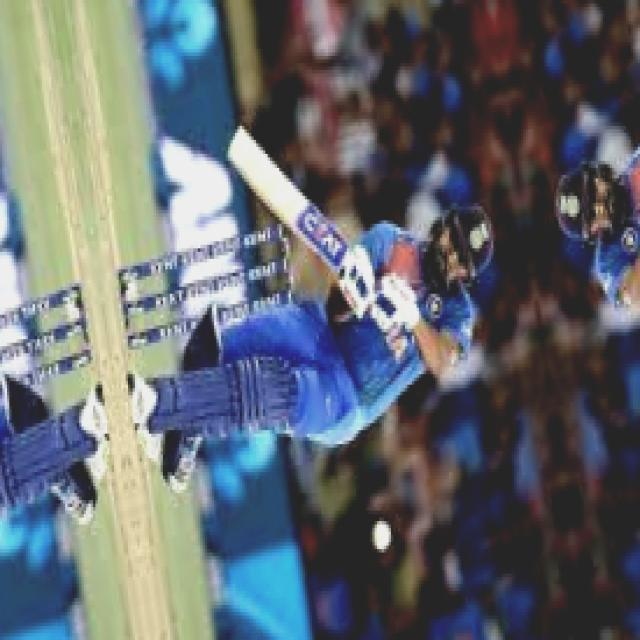toe: (225, 124, 244, 164)
